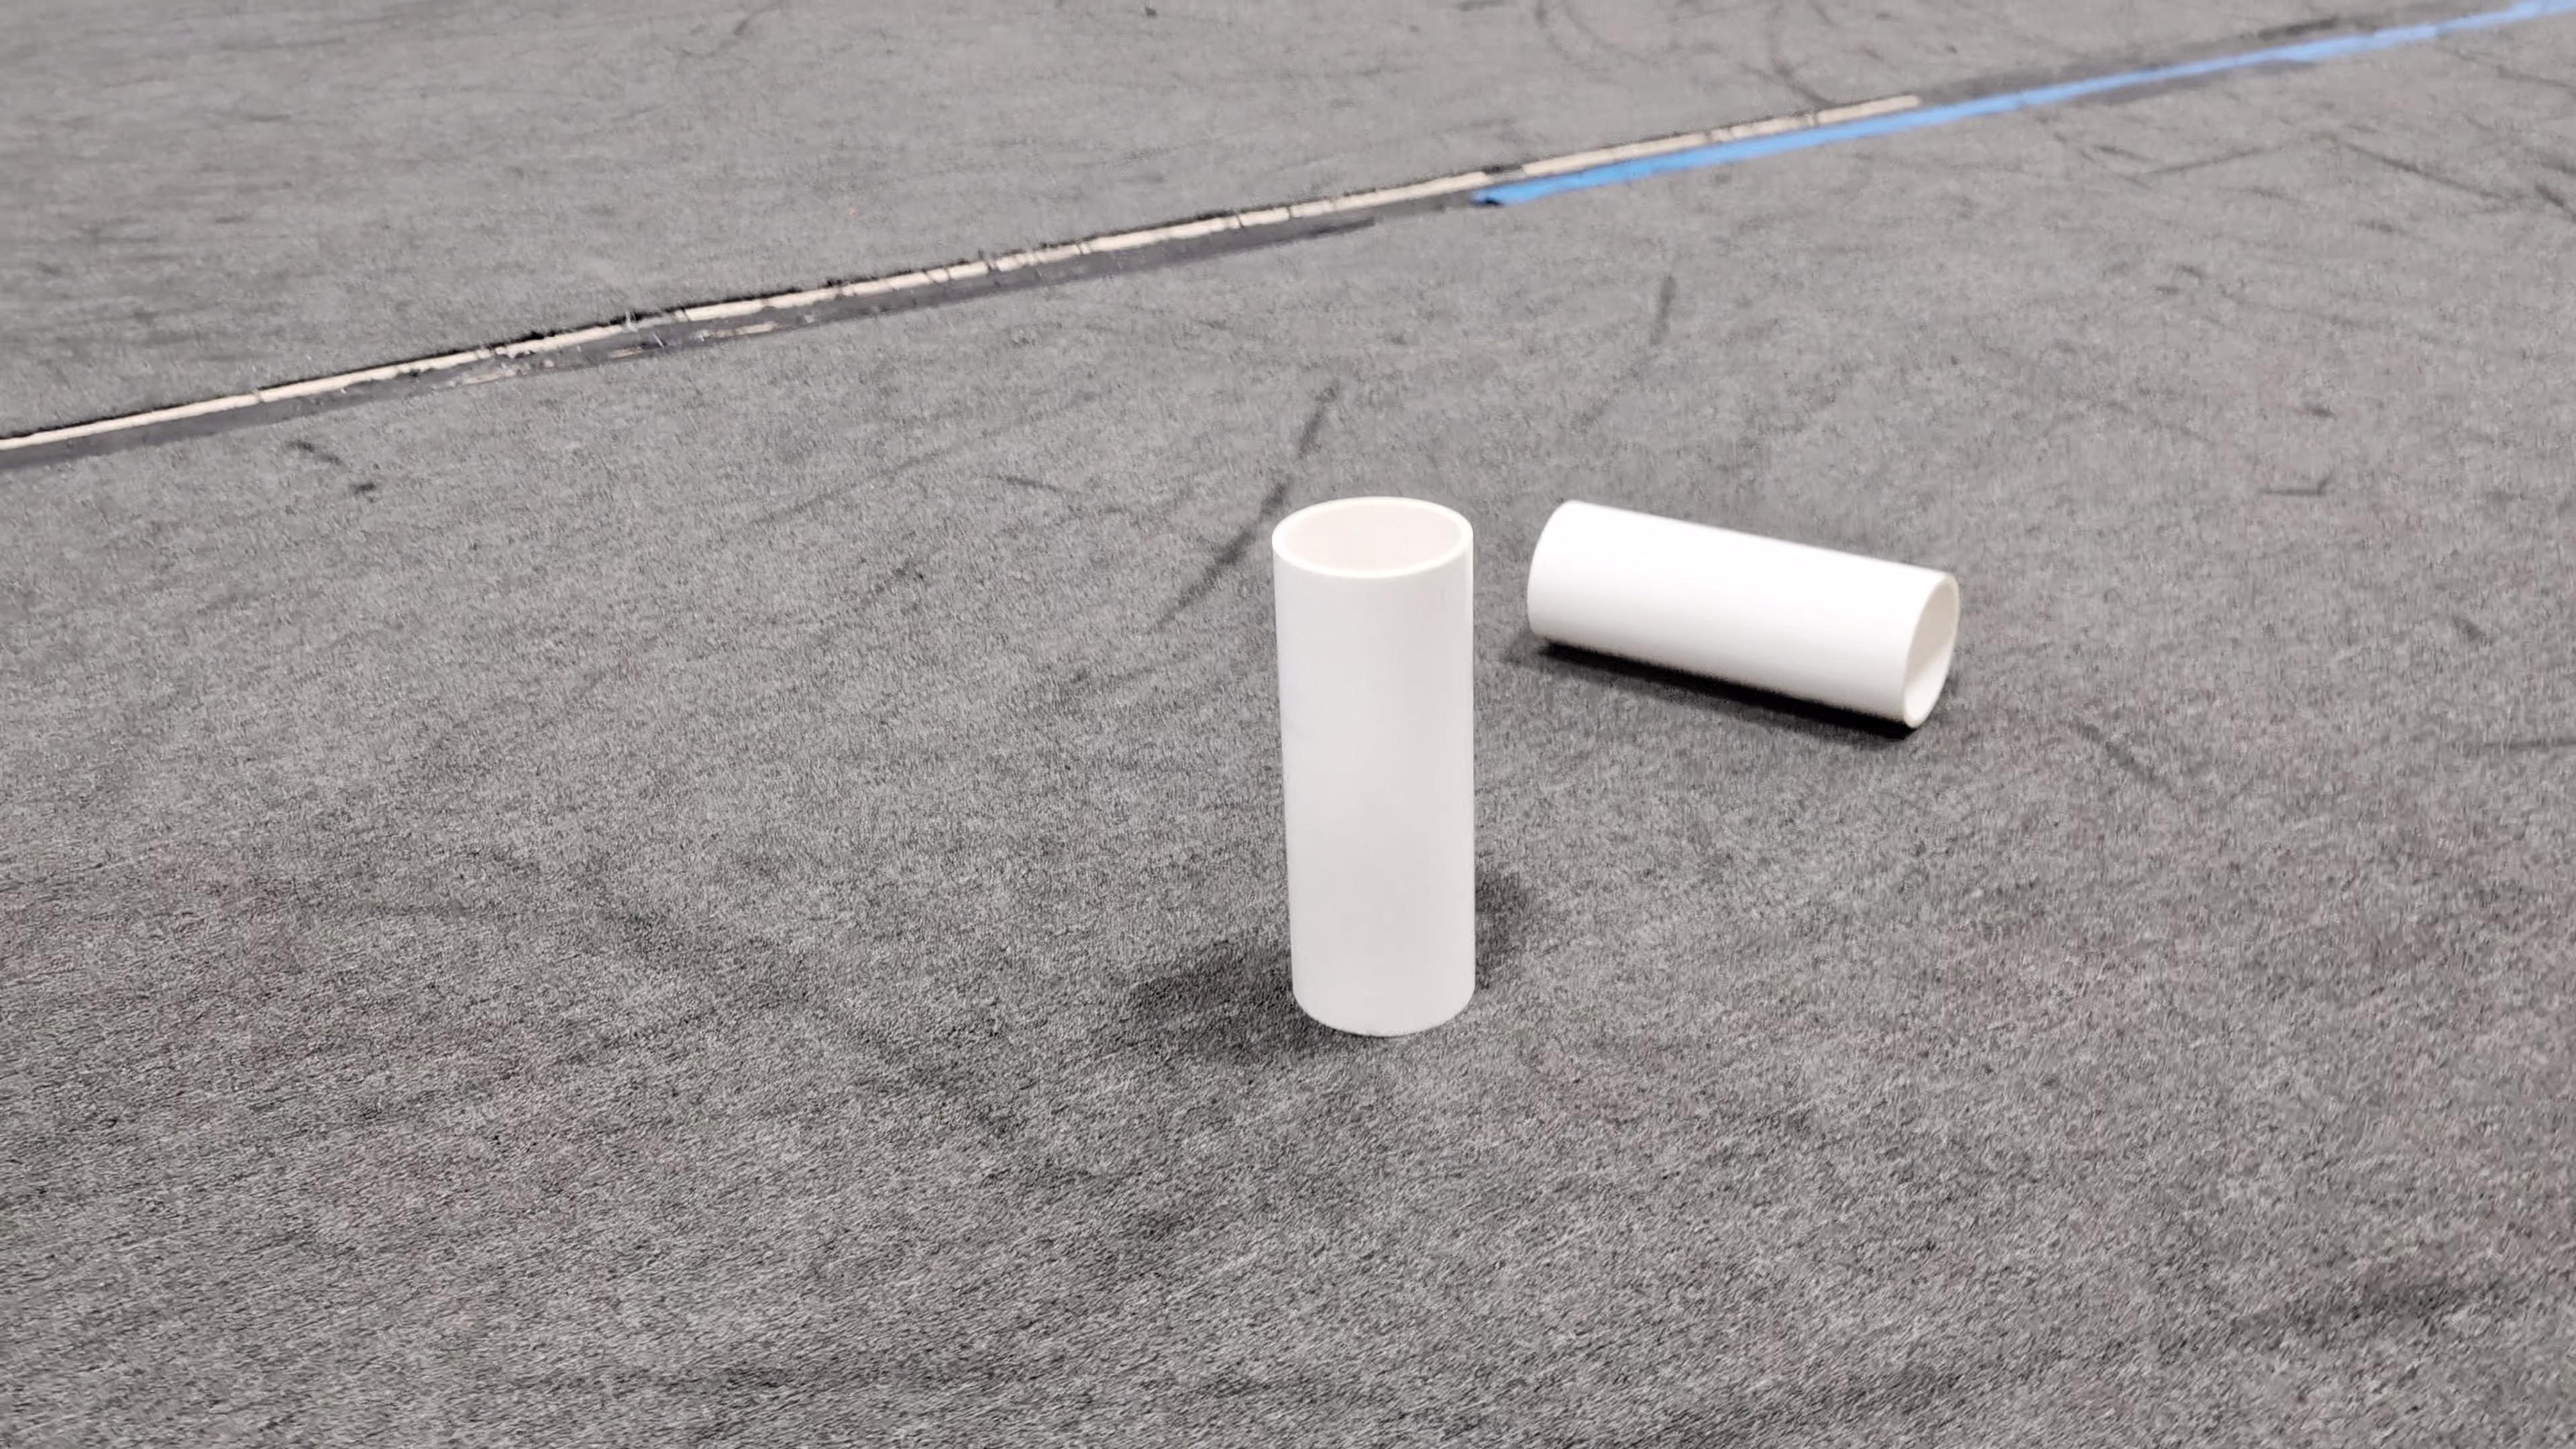coral: (1265, 494, 1483, 1033), (1523, 495, 1960, 727)
